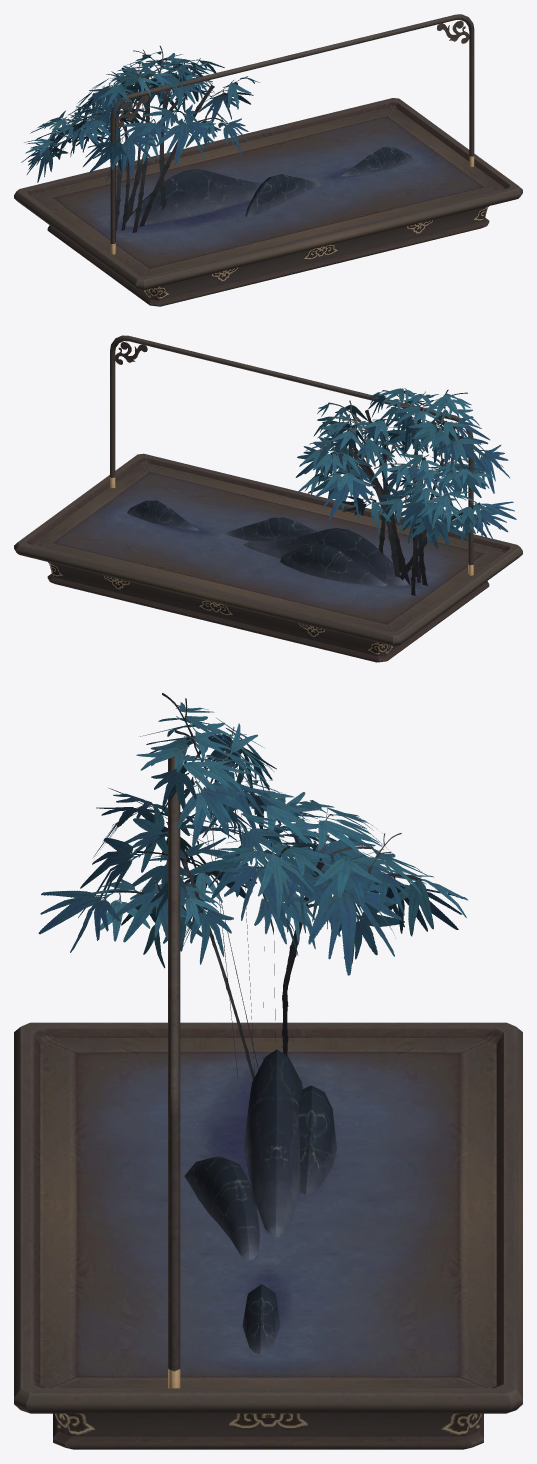
File: furniture-19684.glb
The picture shows the model from 3 angles, top to bottom: view 1: azimuth 30°, elevation 25°; view 2: azimuth 150°, elevation 25°; view 3: azimuth 270°, elevation 25°; orthographic projection. The views are drawn at different scales.
Bounding box in the file's own units: 2.04 × 0.9775 × 1.03.
Materials: 1 (1 with a texture image).
